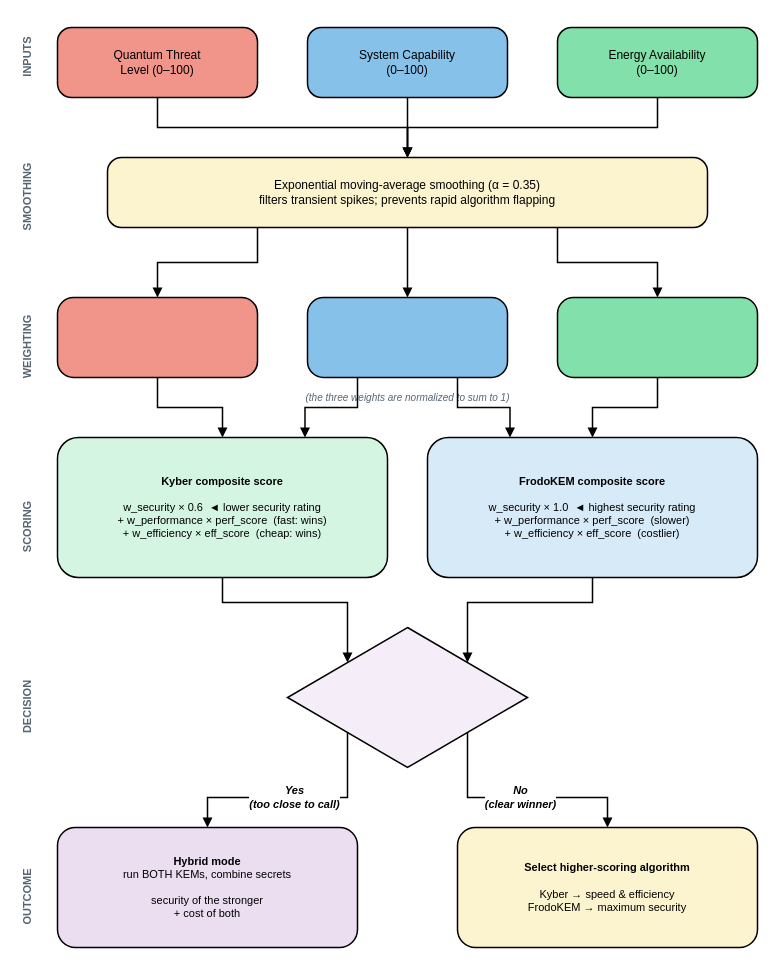
The diagram is 775 pixels wide and 965 high, and some of its shapes have lost their labels. Here are the shapes that lost their labels. From the top down, the centre of each, then its label:
pixel 157 337: w_security ↑ as threat rises
pixel 407 337: w_performance ↑ as capability headroom shrinks
pixel 657 337: w_efficiency ↑ as energy shrinks
pixel 407 697: scores within hybrid margin? |Δ| ≤ 0.08
